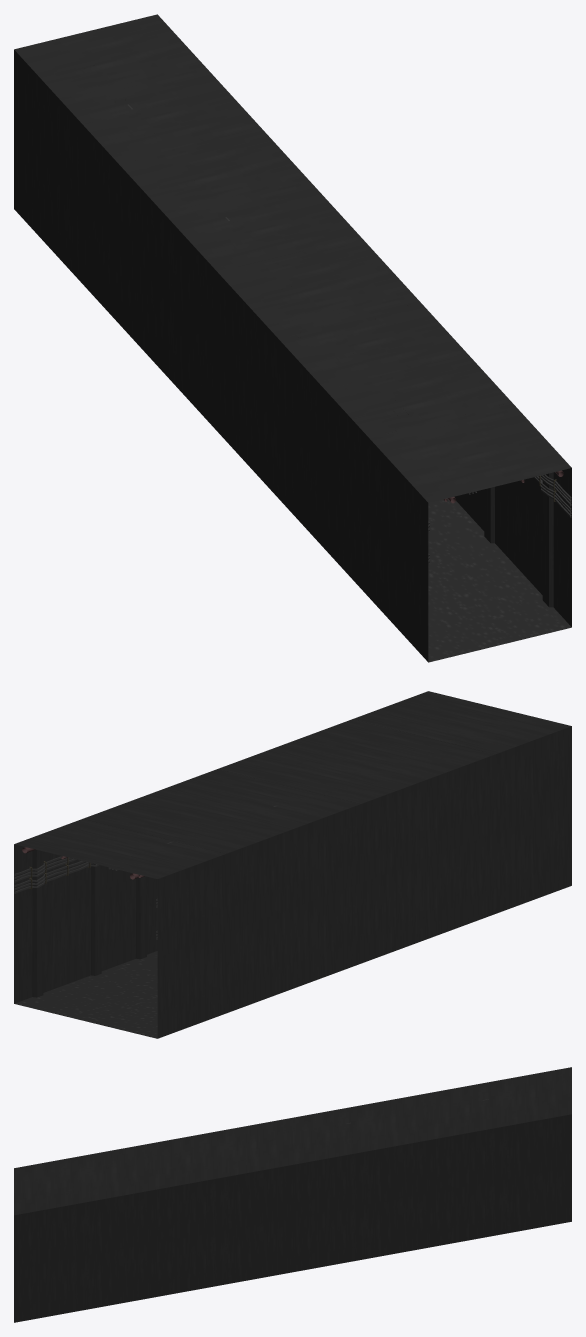
Rendered from SW_ENV_RailTunnel_TrackRise_Single_20m_FF.fbx.
The picture shows the model from 3 angles, top to bottom: view 1: azimuth 30°, elevation 25°; view 2: azimuth 150°, elevation 25°; view 3: azimuth 270°, elevation 25°; orthographic projection. The views are drawn at different scales.
Visible parts, largest first — view 1: SW_ENV_RailTunnel_TrackRise_Single_20m_FF; view 2: SW_ENV_RailTunnel_TrackRise_Single_20m_FF; view 3: SW_ENV_RailTunnel_TrackRise_Single_20m_FF.
Part boxes in pixels (x1=…): SW_ENV_RailTunnel_TrackRise_Single_20m_FF: x1=14, y1=14, x2=571, y2=662; SW_ENV_RailTunnel_TrackRise_Single_20m_FF: x1=14, y1=691, x2=571, y2=1038; SW_ENV_RailTunnel_TrackRise_Single_20m_FF: x1=14, y1=1067, x2=571, y2=1322.
Size of the model in its own units: 4 by 8.25 by 20.
